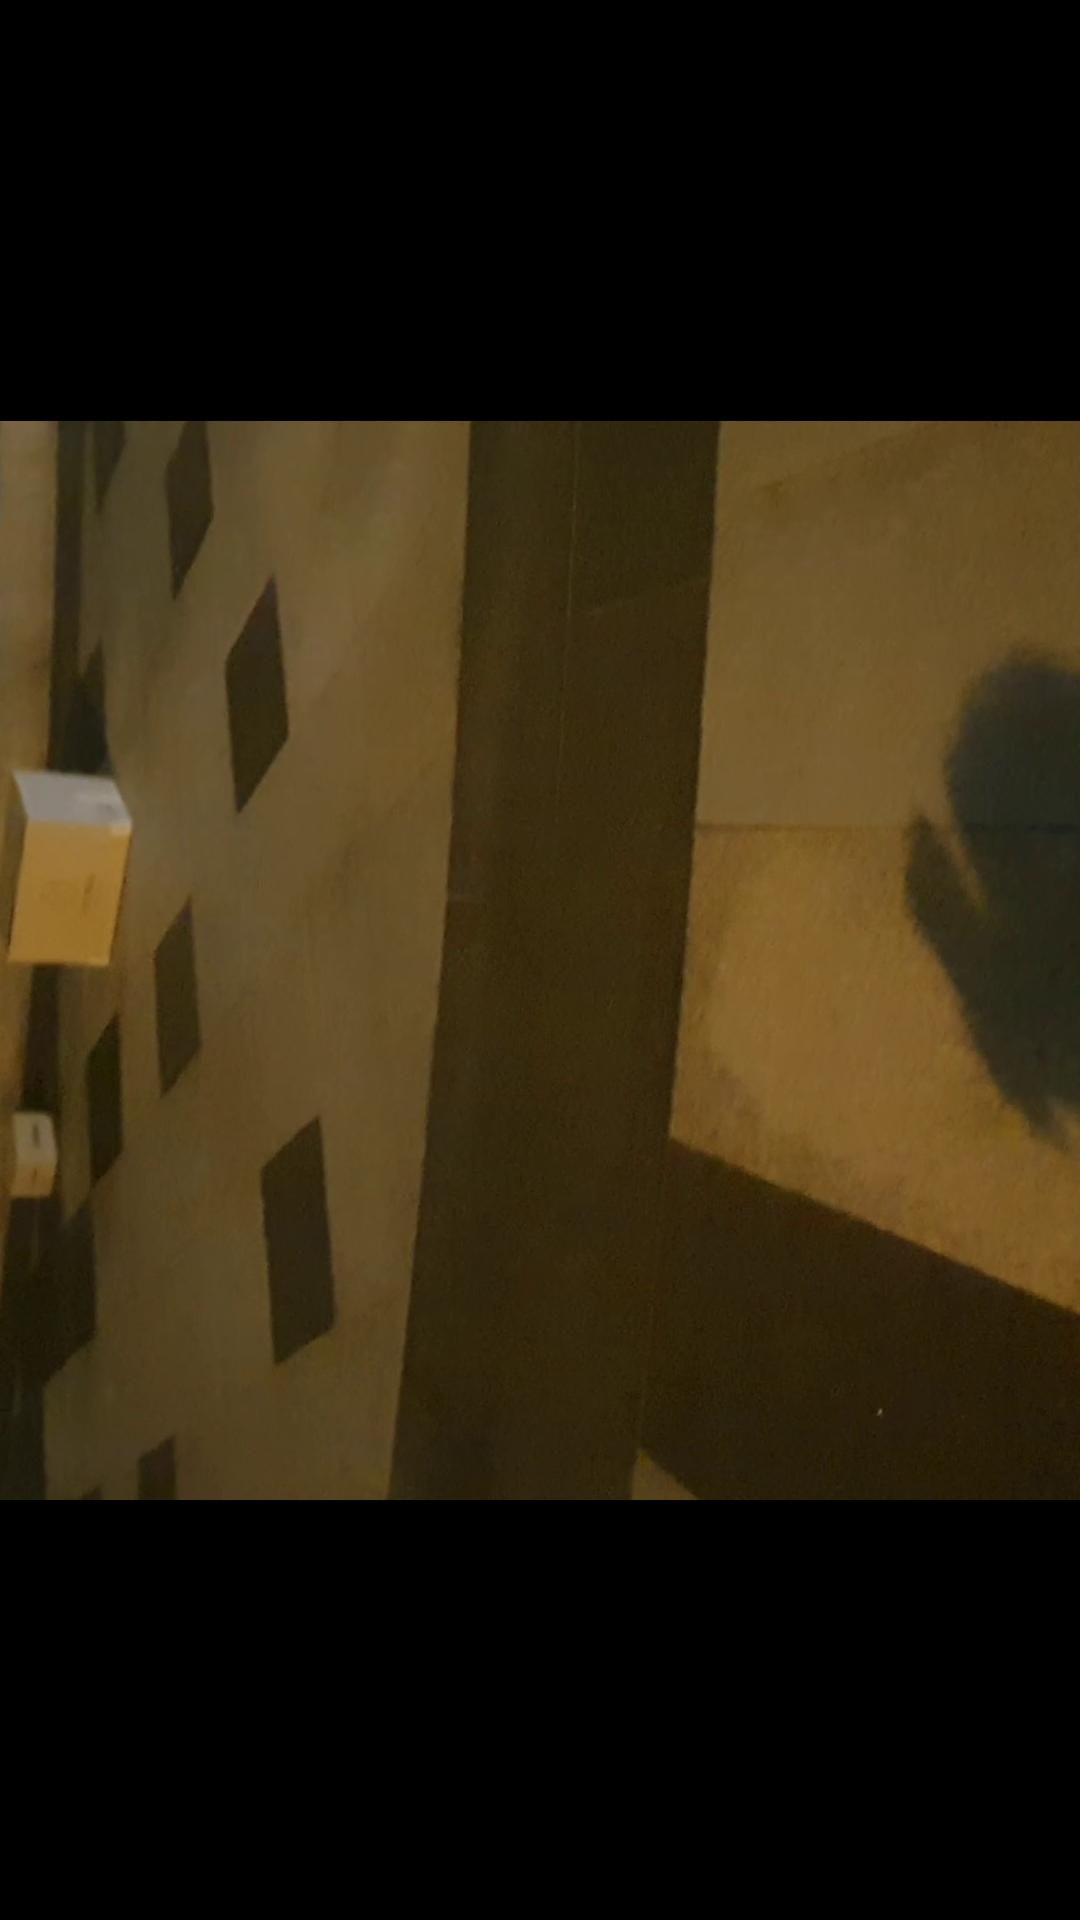Box: (0, 766, 138, 986), (0, 1105, 67, 1207)
